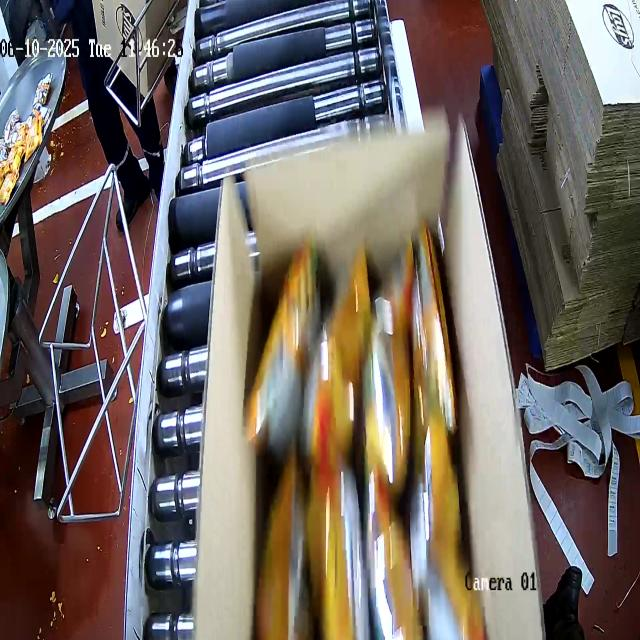FRENCH_CHEESE: (261, 214, 480, 640)
